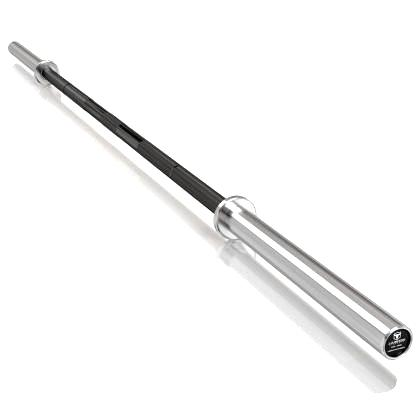Barbell: (377, 320, 414, 367)
